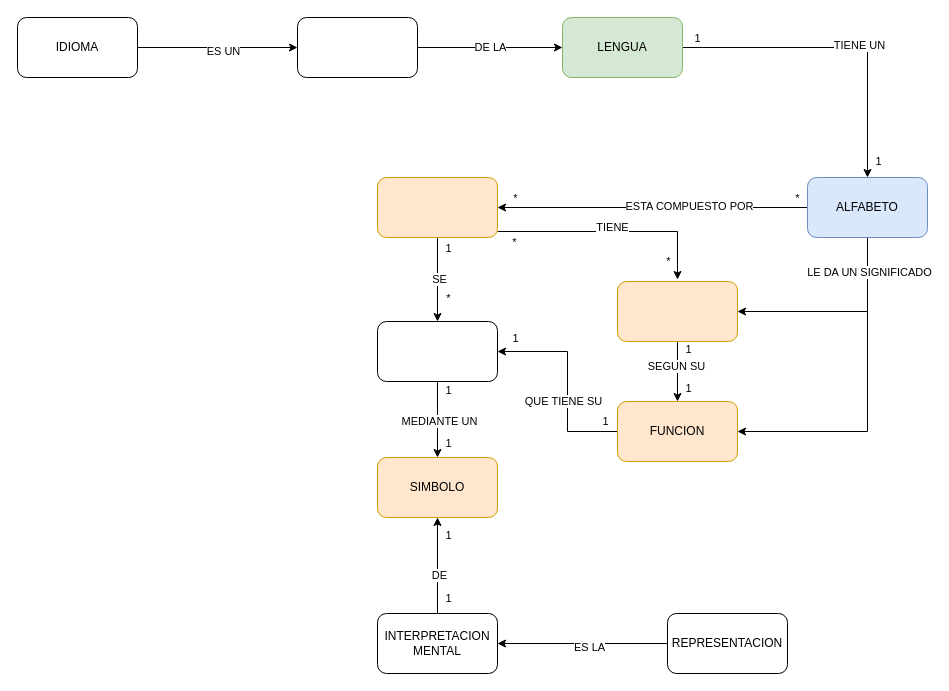
This 949x691 diagram has some shape labels left out. The shapes that lost their labels are listed below. From the top down, each one's box as (x1, y1, x2, y2) in pixels, then its label:
(296, 16, 418, 78): SENTIDO POLÍTOCO
(376, 176, 498, 238): LETRA
(616, 280, 738, 342): TIPO DE LETRA
(376, 320, 498, 382): GRAFICA
